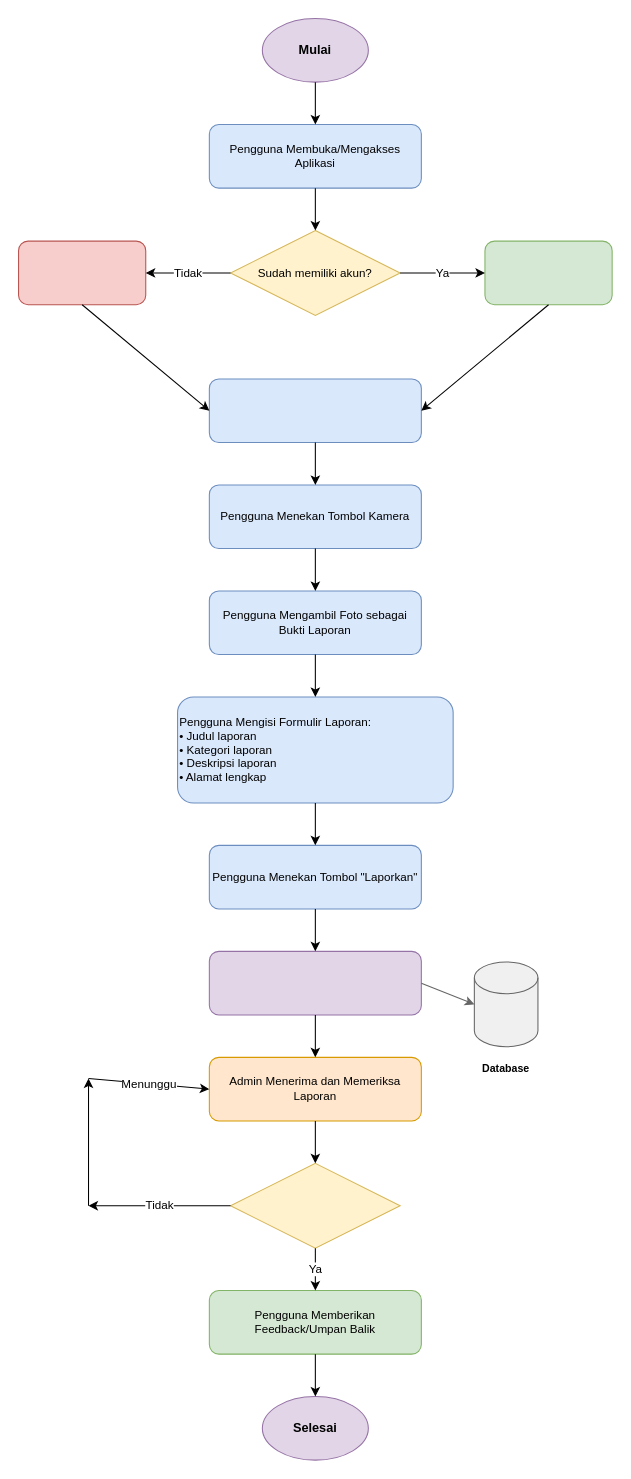
The diagram is 631 pixels wide and 1479 high, and some of its shapes have lost their labels. The shapes that lost their labels are listed below. From the top down, each one's centre as x and y in pixels, then its label:
point (81, 272): Registrasi Akun Baru
point (548, 272): Login dengan Akun yang Ada
point (314, 410): Berhasil Masuk ke Aplikasi
point (314, 982): Sistem Mengirim Laporan ke Database
point (314, 1205): Laporan Sudah Ditangani/Selesai?
